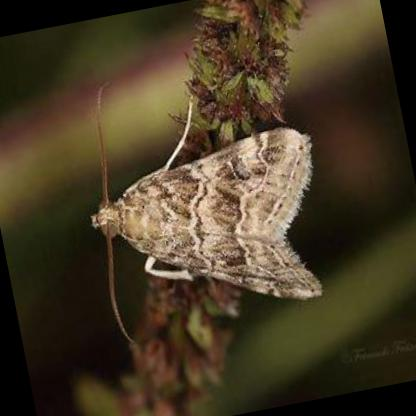Hellula undalis: (91, 83, 328, 350)
